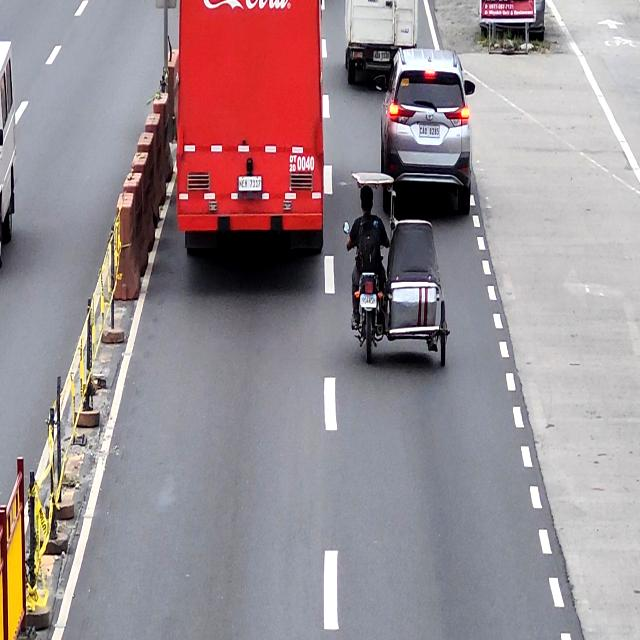Car: (380, 46, 476, 220), (344, 0, 420, 85)
License-Plate: (237, 175, 262, 192), (418, 124, 441, 140), (360, 291, 378, 309), (372, 50, 391, 61)
Tricycle: (346, 166, 451, 372)
Truck: (174, 0, 327, 258)
